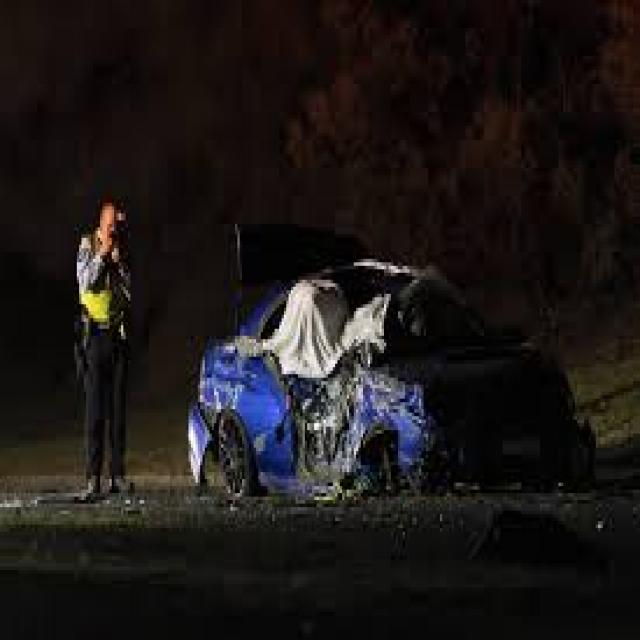accident: (174, 238, 595, 520)
